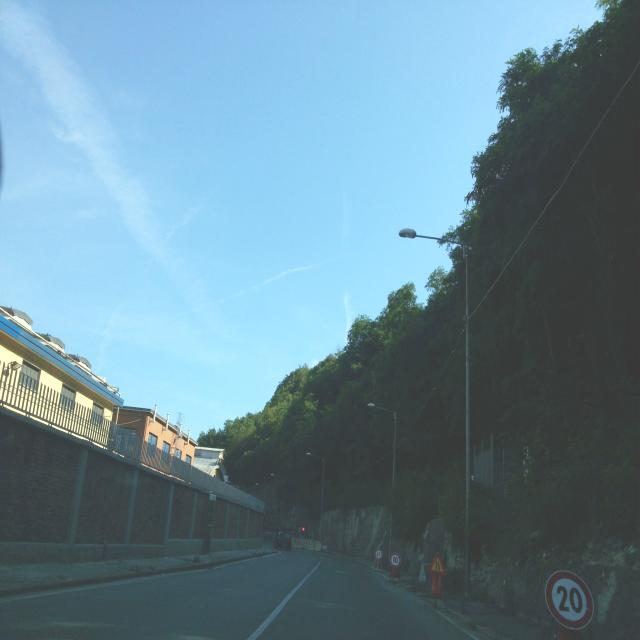car: (274, 530, 292, 551)
